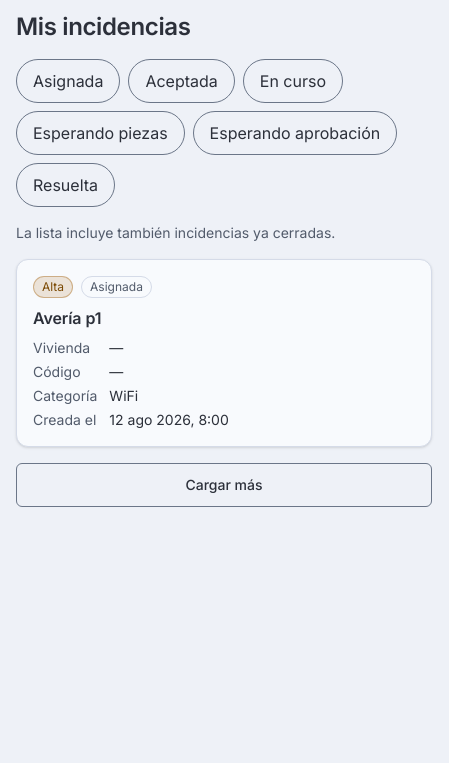
Test case: TechIncidentsView (R1) › reports a failed page instead of skipping it, and withdraws `load more` (R1.6)
Check: the text "Avería p1" is shown, box [33, 308, 102, 328]
Click the button "Cargar más". click: (224, 485)
box: [16, 463, 432, 507]
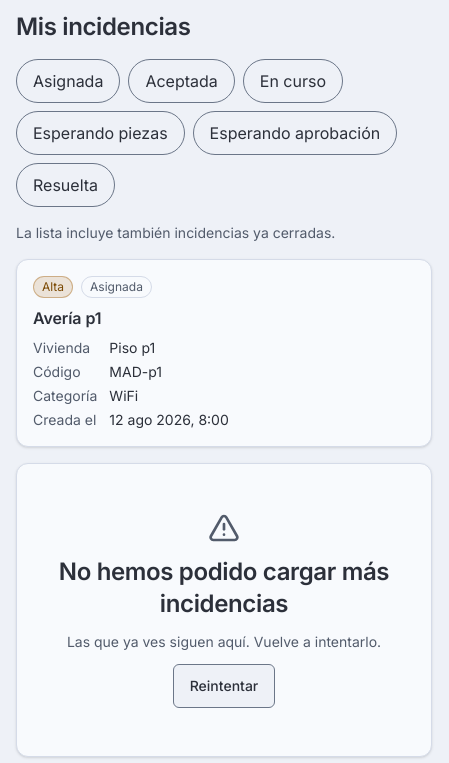
Check: the text "Avería p1" is shown, box [33, 308, 102, 328]
Check: the heading "No hemos podido cargar más incidencias" is shown, box [41, 556, 407, 620]
